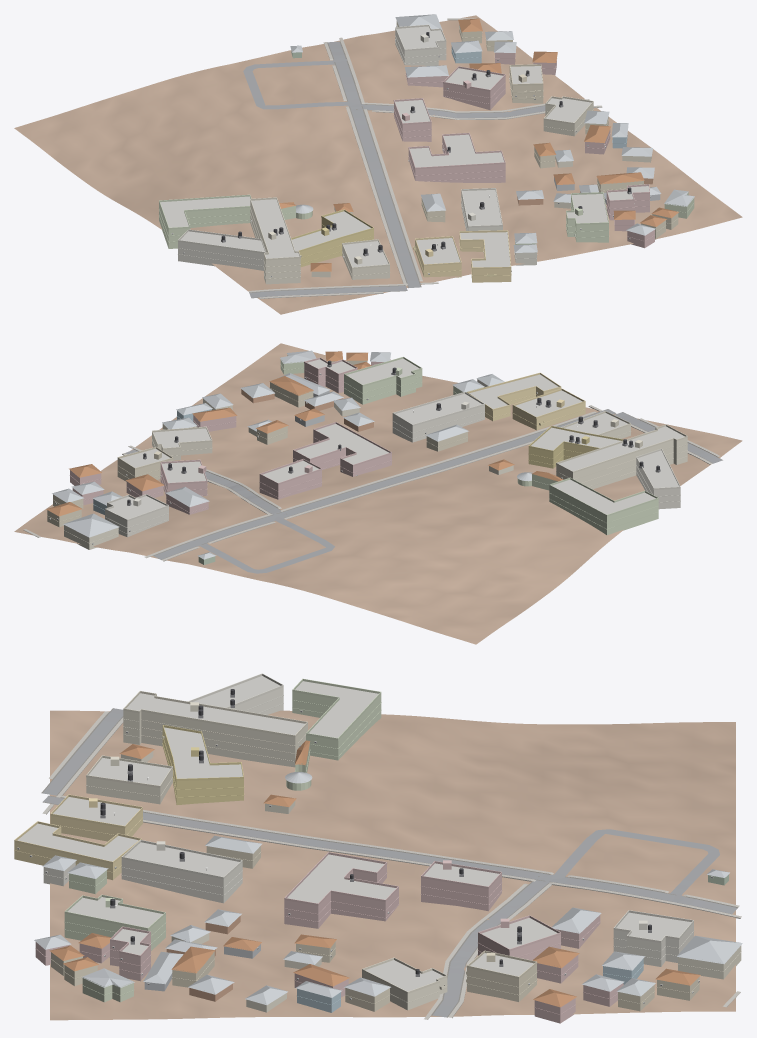
3 renders of one model, top to bottom at view 1: azimuth 30°, elevation 25°; view 2: azimuth 150°, elevation 25°; view 3: azimuth 270°, elevation 25°, orthographic. The views are drawn at different scales.
Parts seen in each view (by area): view 1: Terrain-col, Buildings-col, Details, Roads-col, Sidewalks-col; view 2: Terrain-col, Buildings-col, Details, Roads-col, Sidewalks-col; view 3: Terrain-col, Buildings-col, Details, Roads-col, Sidewalks-col.
Part boxes in pixels (left/top/right/bottom): Terrain-col: left=14, top=15, right=742, bottom=314; Buildings-col: left=159, top=14, right=694, bottom=284; Details: left=159, top=24, right=694, bottom=279; Roads-col: left=243, top=41, right=545, bottom=298; Sidewalks-col: left=248, top=18, right=602, bottom=299; Terrain-col: left=14, top=343, right=742, bottom=644; Buildings-col: left=46, top=350, right=687, bottom=564; Details: left=47, top=356, right=687, bottom=544; Roads-col: left=125, top=409, right=722, bottom=573; Sidewalks-col: left=23, top=405, right=720, bottom=561; Terrain-col: left=50, top=710, right=735, bottom=1020; Buildings-col: left=14, top=676, right=742, bottom=1023; Details: left=14, top=673, right=741, bottom=1014; Roads-col: left=41, top=708, right=737, bottom=1017; Sidewalks-col: left=42, top=711, right=741, bottom=1019.
Size of the model in its own units: 275 by 24.61 by 272.
